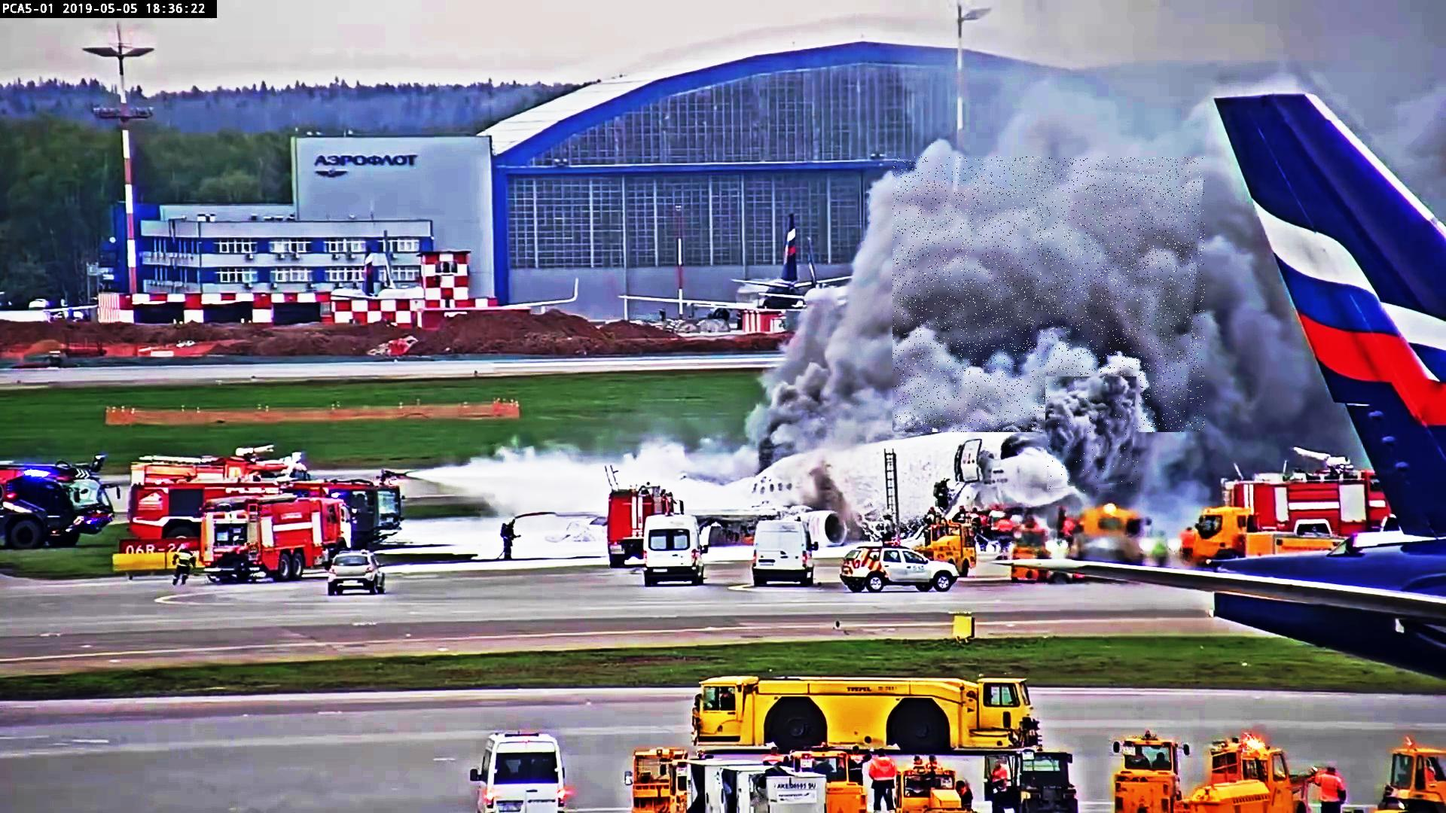smoke: (893, 157, 1205, 432), (1048, 377, 1139, 491)
